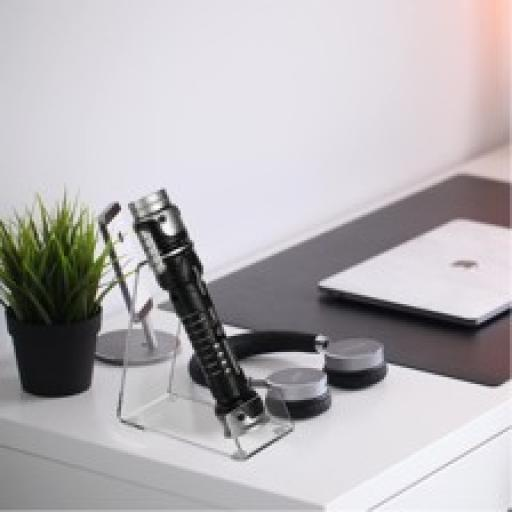lightsaber: (130, 192, 270, 434)
